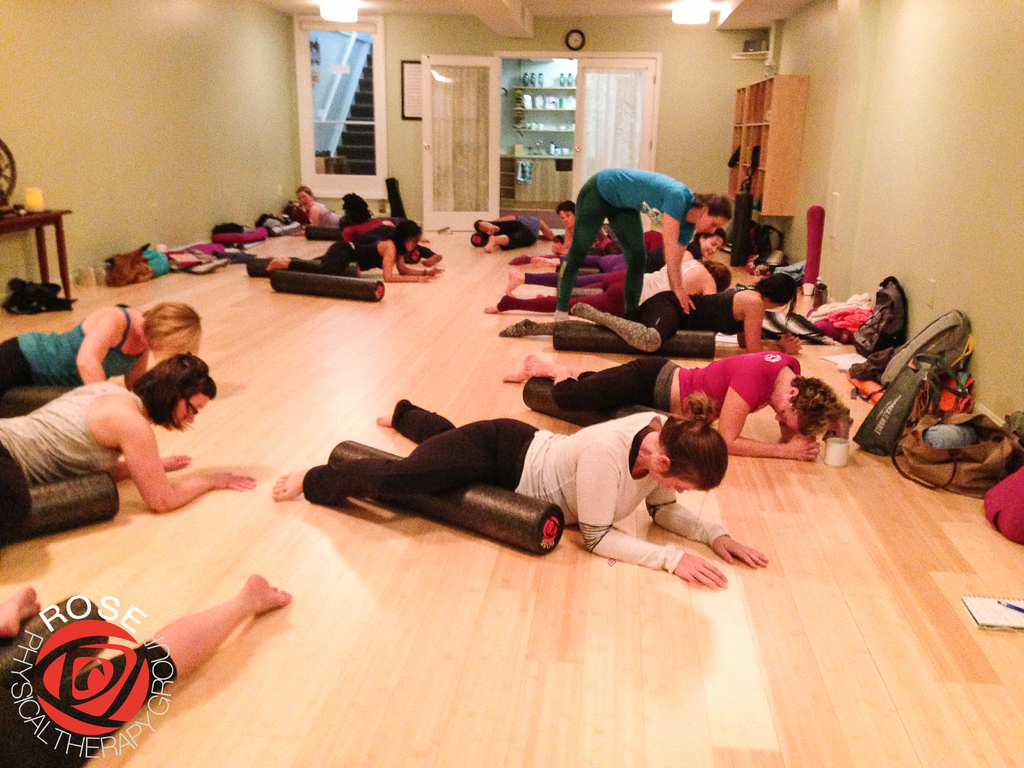face: (169, 387, 210, 429)
